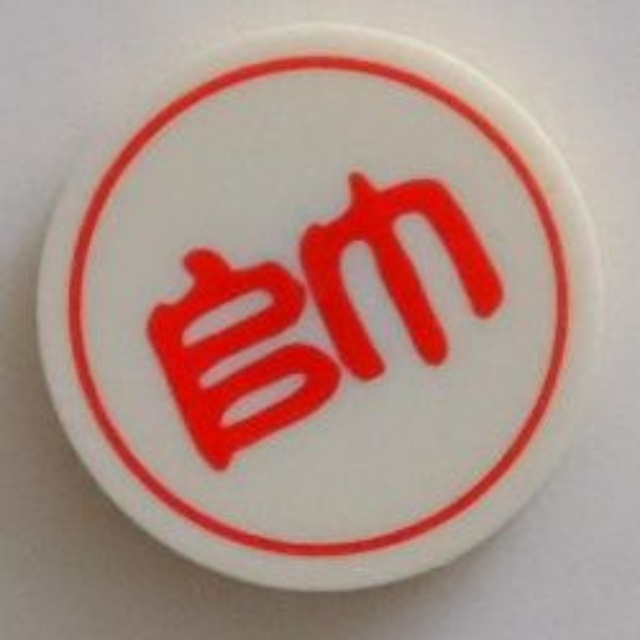red_tuong: (31, 21, 608, 597)
